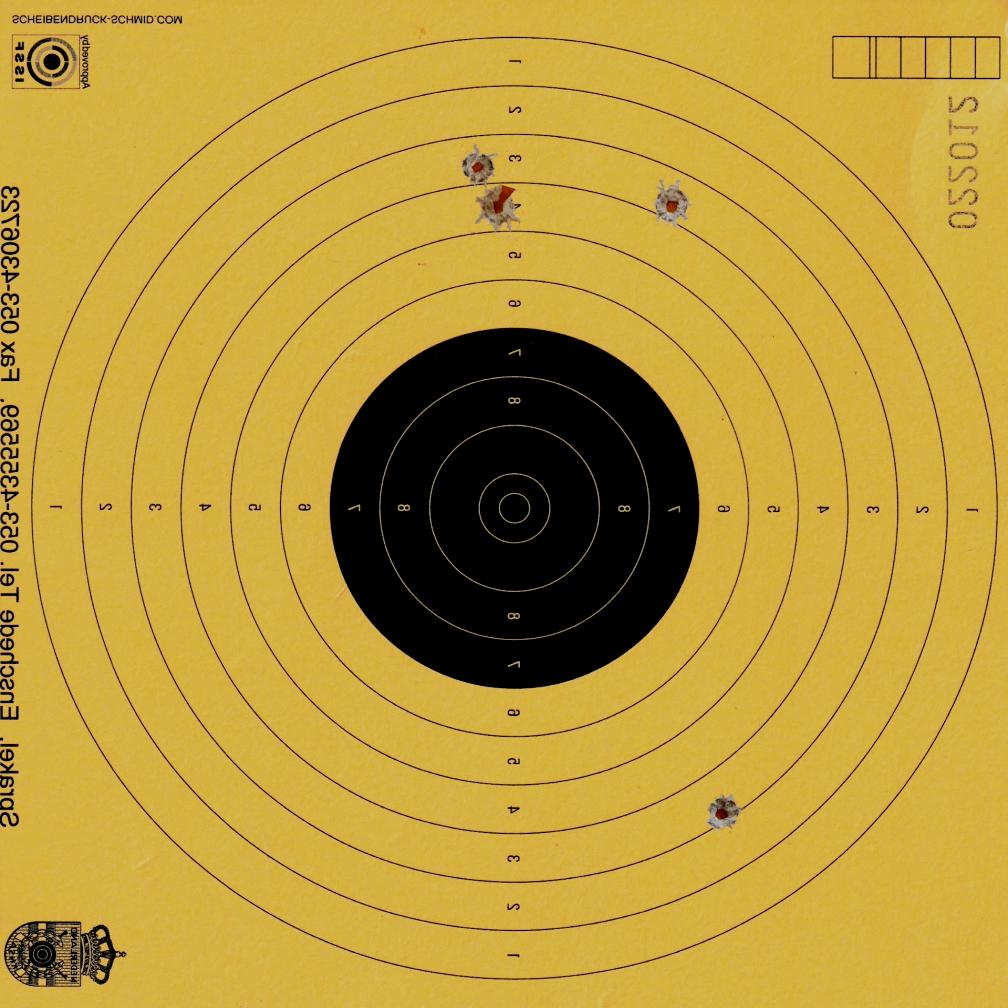3: (704, 792, 744, 832)
4: (475, 185, 520, 233), (653, 176, 695, 227), (458, 146, 498, 187)
Target: (24, 34, 1002, 984)
black_contour: (329, 326, 699, 689)
